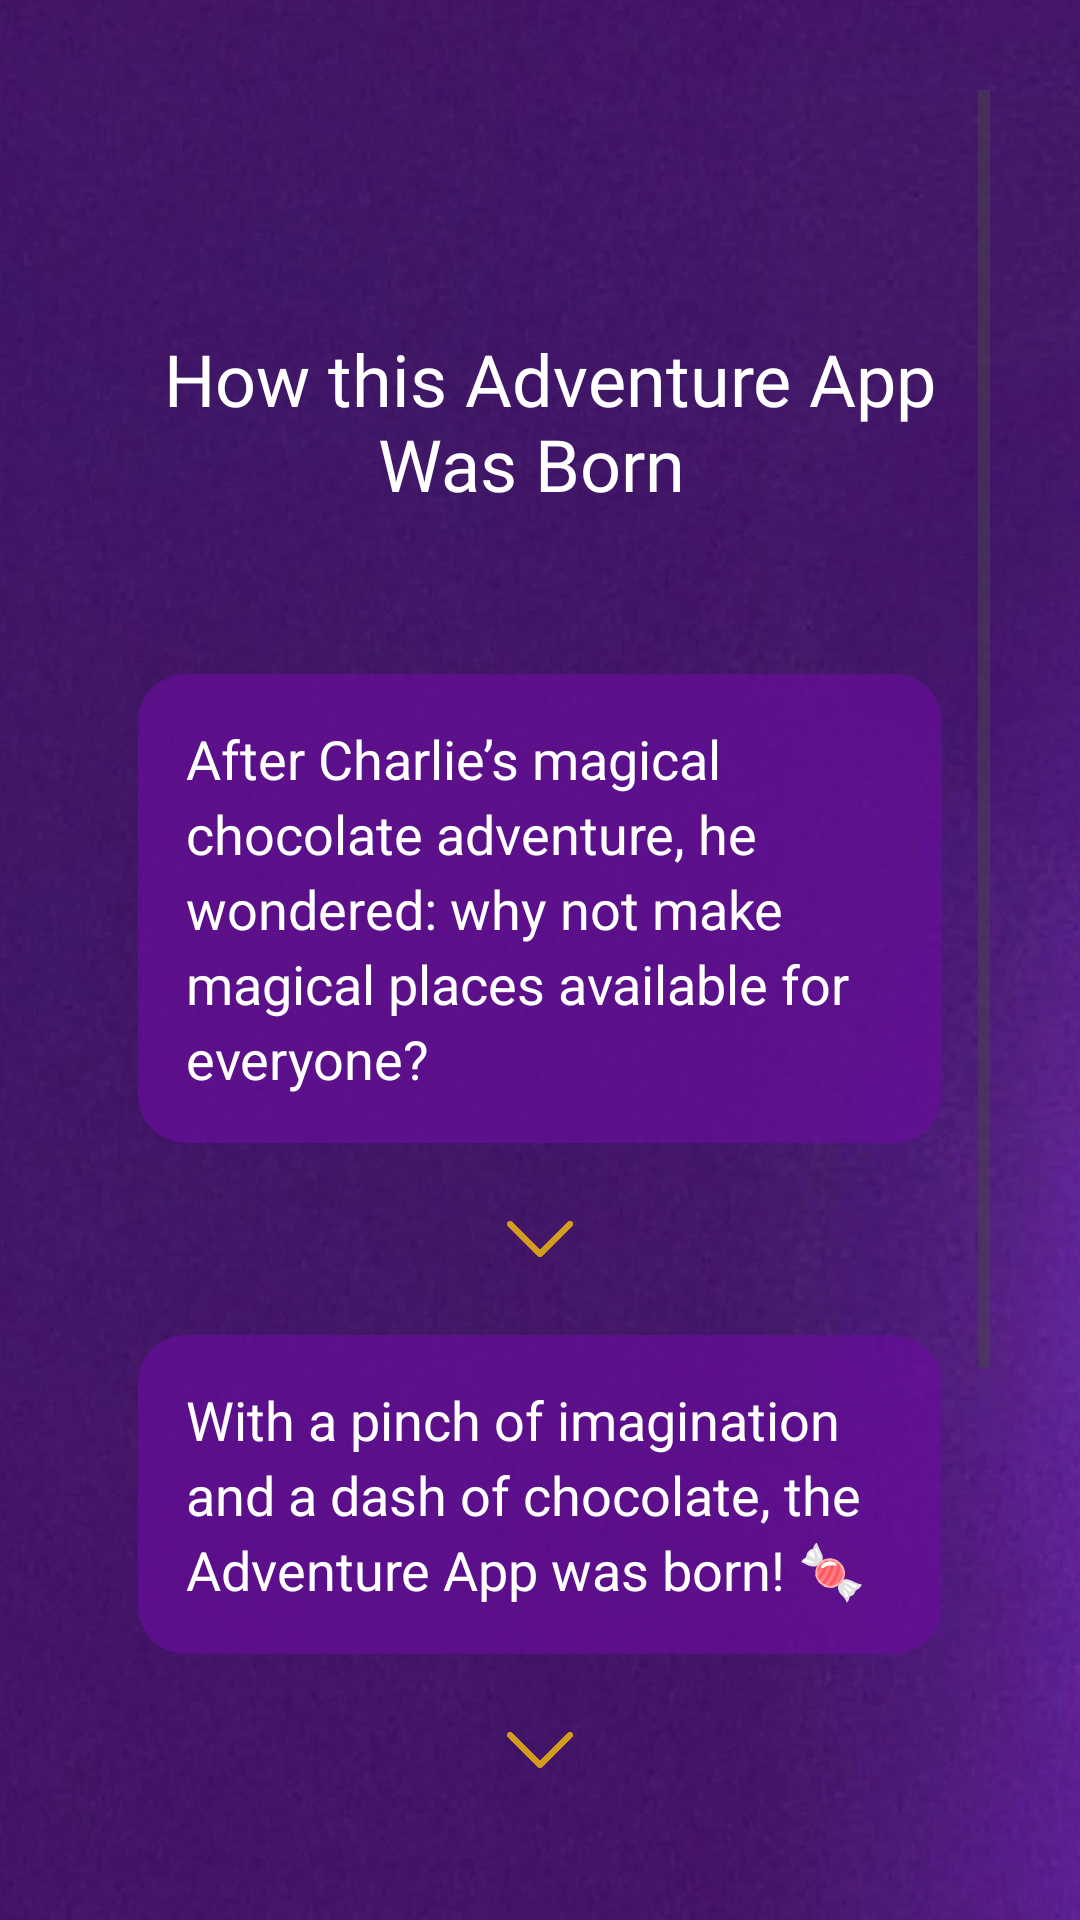

Icon click points for this 1080 x 1920 phone screenshot, format point (x, y):
down arrow: point (540, 1239), point (540, 1750)
